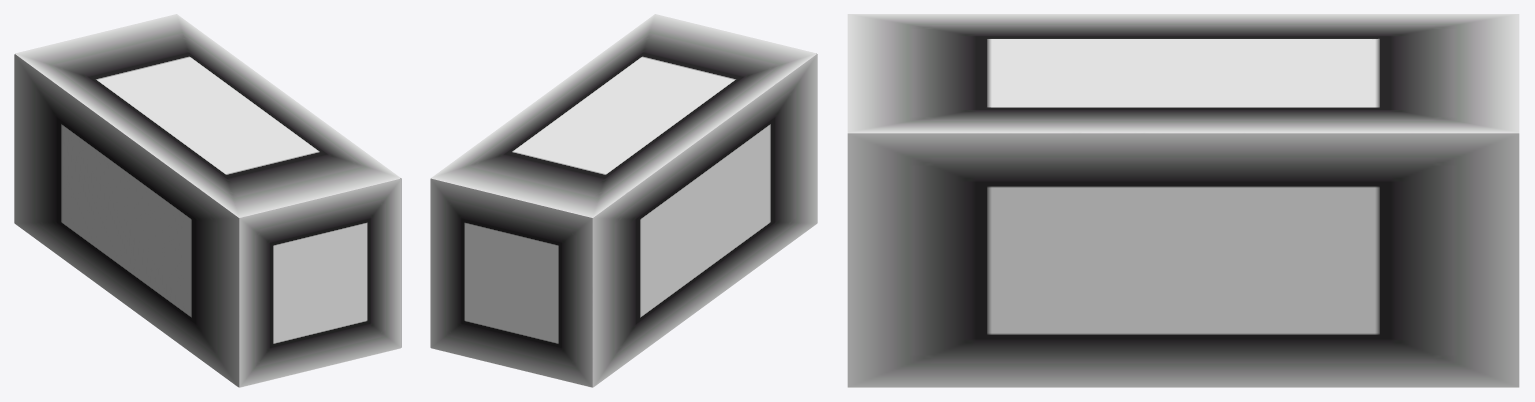
Rendered from scanner.obj.
The picture shows the model from 3 angles, left to right: view 1: azimuth 30°, elevation 25°; view 2: azimuth 150°, elevation 25°; view 3: azimuth 270°, elevation 25°; orthographic projection. The views are drawn at different scales.
Visible parts, largest first — view 1: Scanner7, Scanner2, Scanner4, Scanner1; view 2: Scanner7, Scanner2, Scanner3, Scanner1; view 3: Scanner6, Scanner2, Scanner1, Scanner5.
Boxes of the visible parts, <box> form: Scanner7: <box>14,54,238,387</box>; Scanner2: <box>15,14,400,217</box>; Scanner4: <box>239,179,401,387</box>; Scanner1: <box>15,54,400,387</box>; Scanner7: <box>593,54,817,387</box>; Scanner2: <box>431,14,816,217</box>; Scanner3: <box>430,179,592,387</box>; Scanner1: <box>431,54,816,387</box>; Scanner6: <box>847,133,1519,387</box>; Scanner2: <box>847,14,1519,132</box>; Scanner1: <box>847,132,1519,133</box>; Scanner5: <box>847,387,1519,387</box>.
Size of the model in its own units: 5.04 by 5.04 by 12.04.
2 materials, 2 textured.
